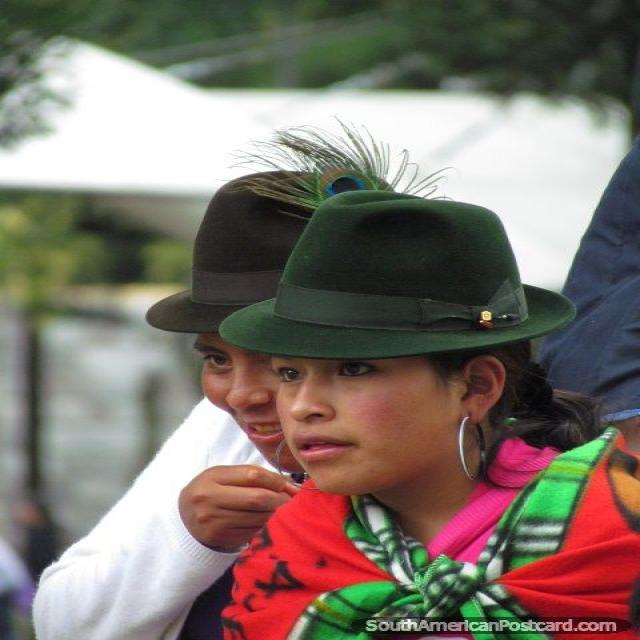hat: (221, 184, 567, 497), (149, 173, 335, 472)
